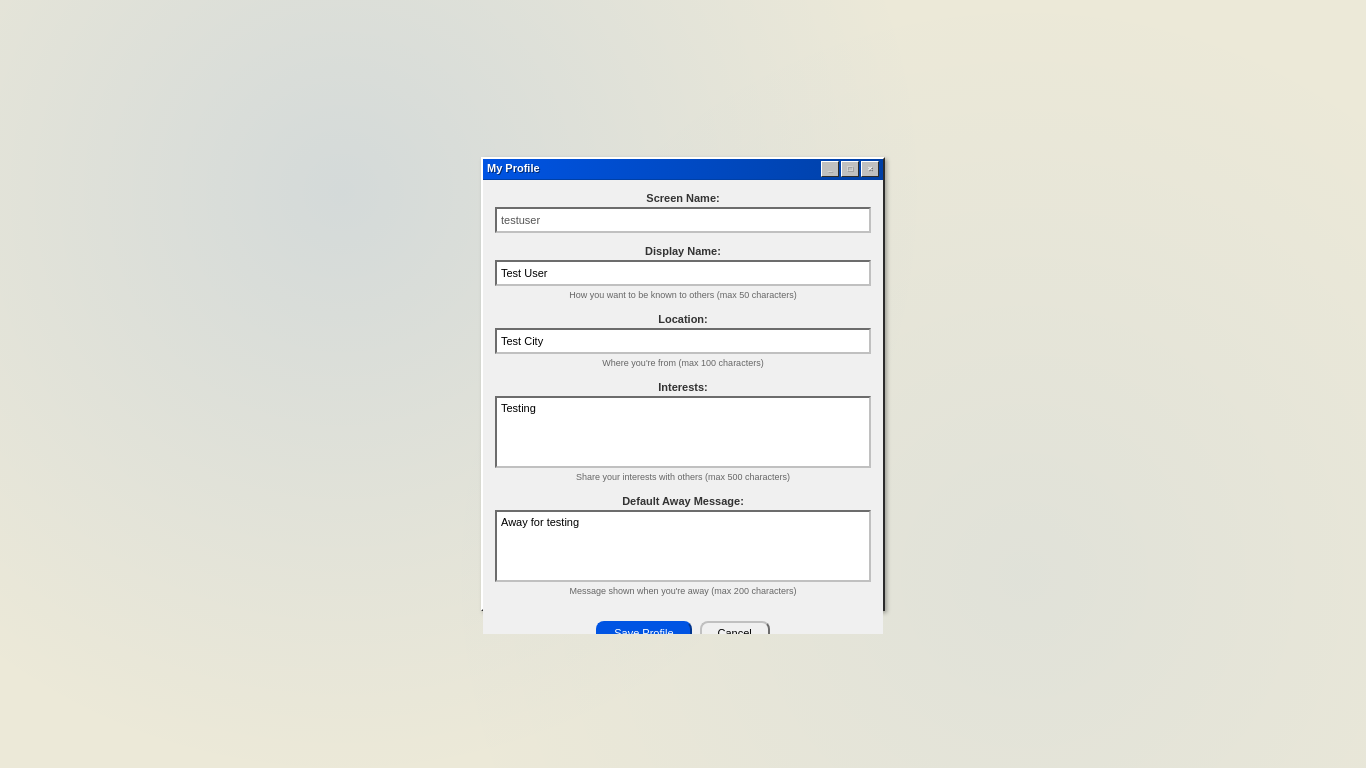
Scenario: ProfileWindow › should handle profile update submission
This screenshot has width=1366, height=768.
Expected: the field showing "testuser" below "Screen Name:" is shown, [495,207,871,233]
// Update a field
Replace the text in the field showing "Test User" below "Display Name:" with "Updated User" at (683,273), box [495,260,871,286]
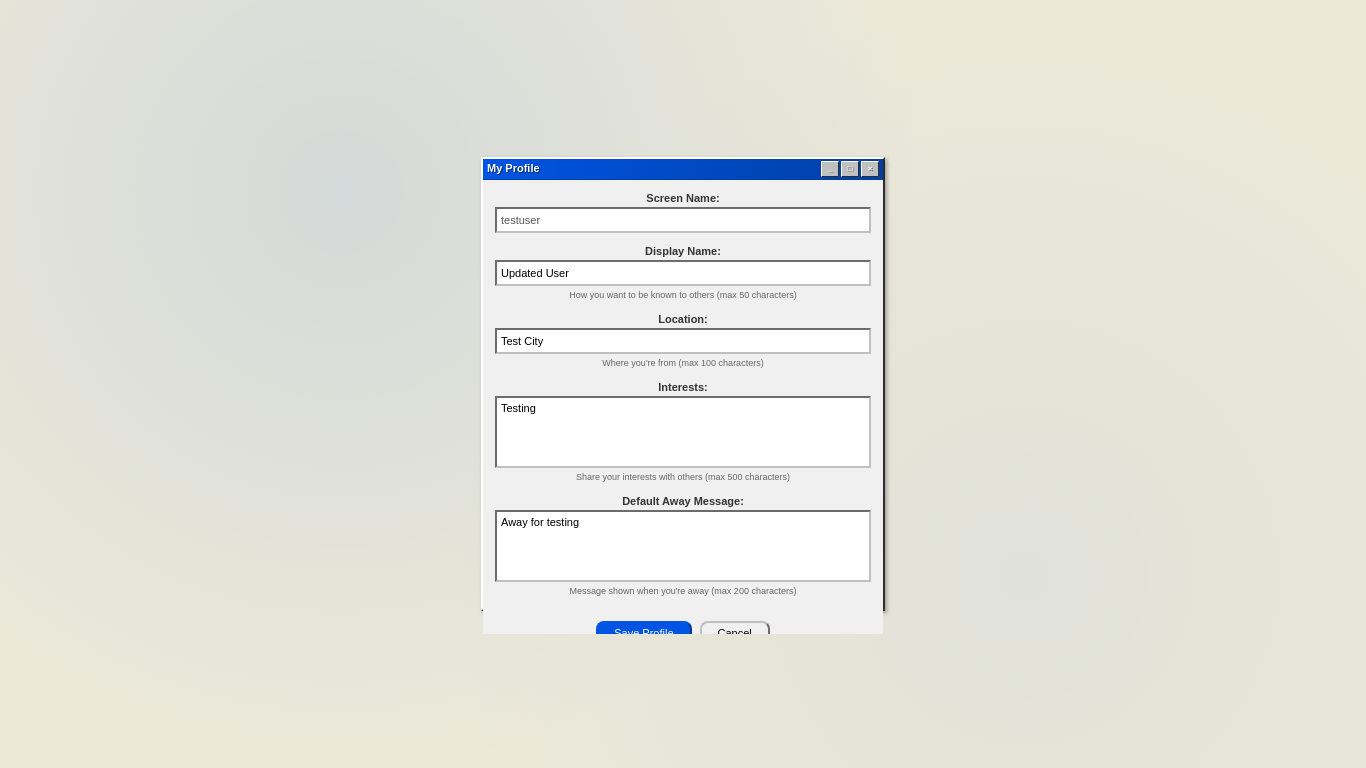
// Submit the form
Click the button "Save Profile" at (644,633), box [596,621,692,644]
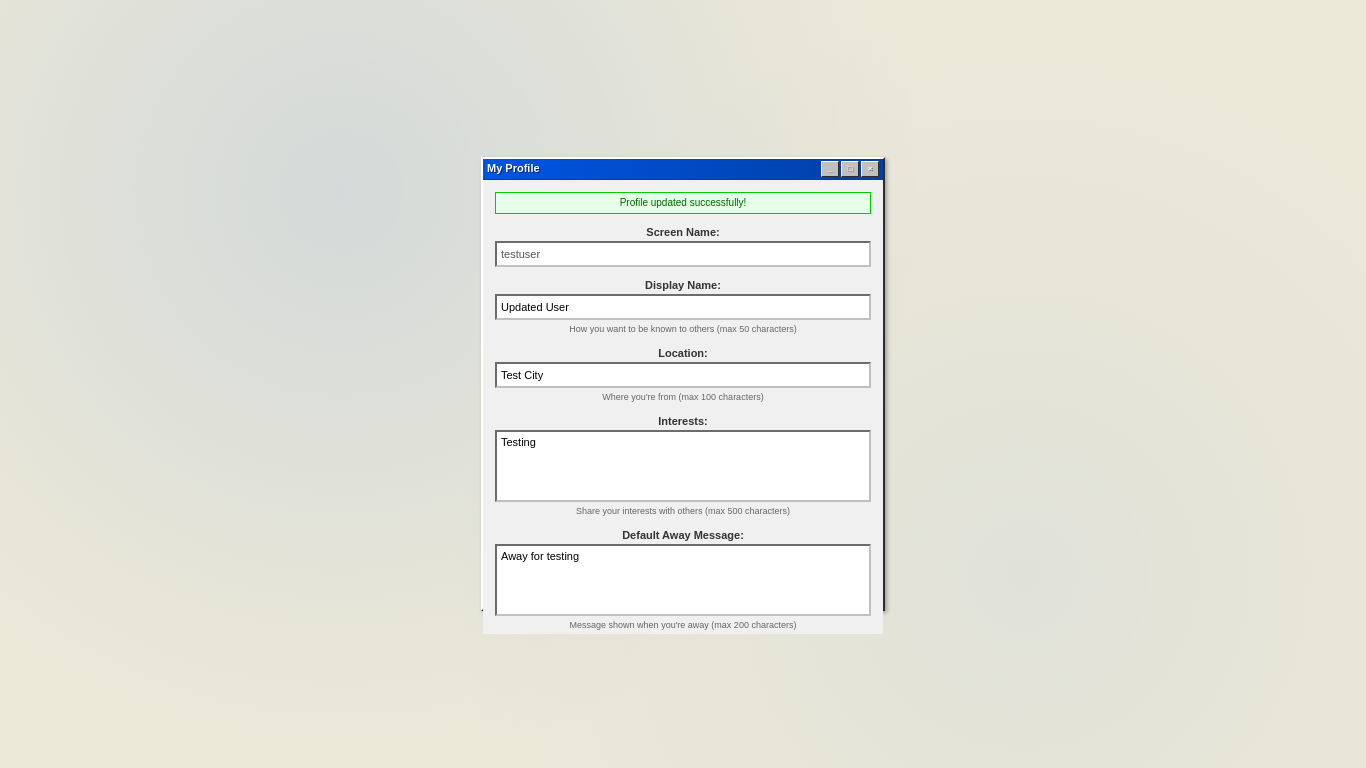
Expected: the text "Profile updated successfully!" is shown, [495,192,871,214]
